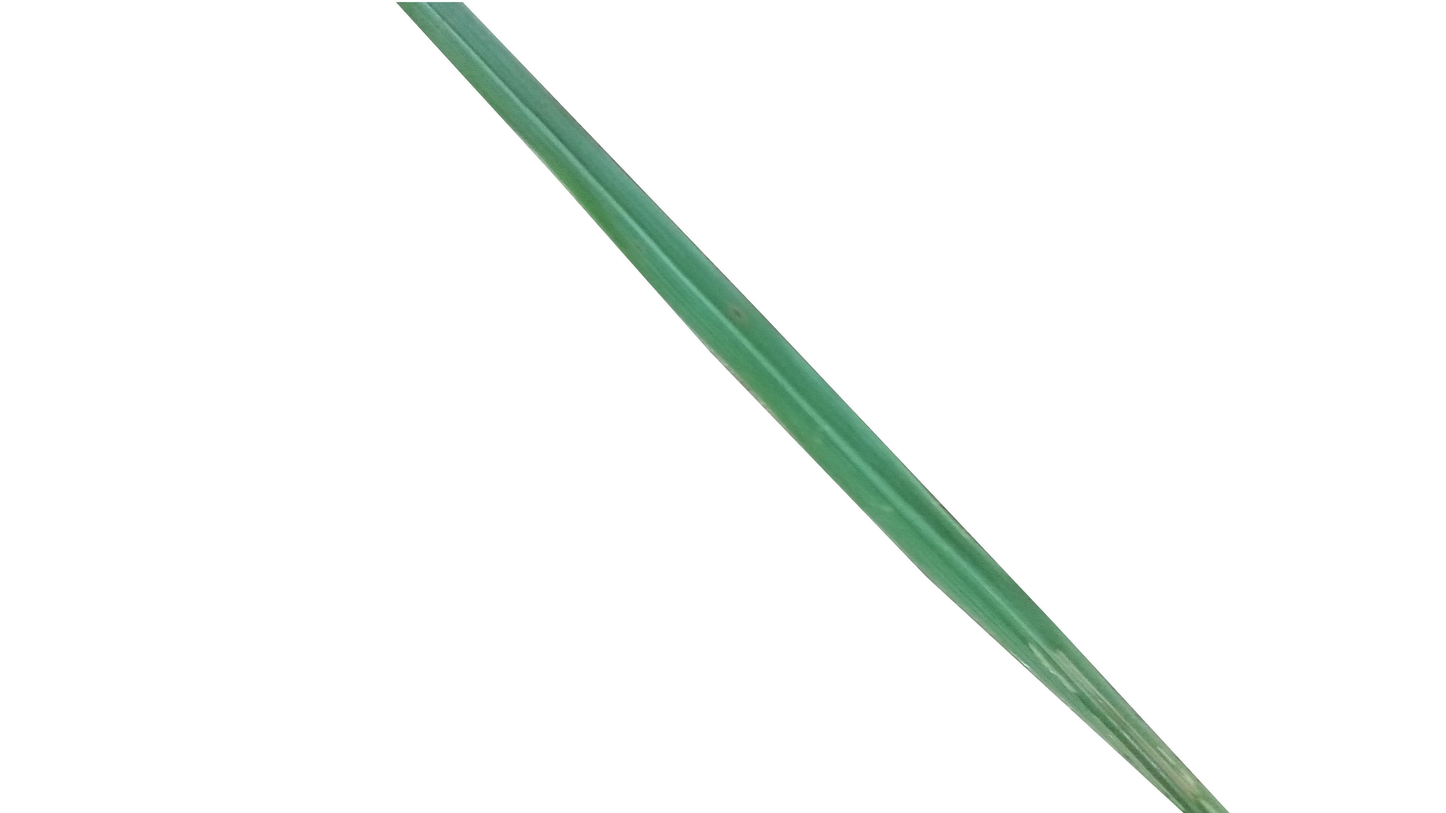Brown spot: (724, 299, 748, 330)
